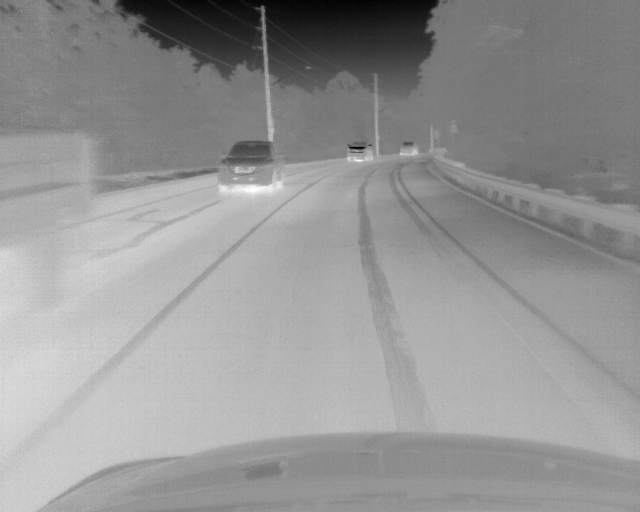car: (1, 123, 95, 303), (216, 139, 288, 193), (347, 140, 375, 164), (399, 140, 418, 159)
